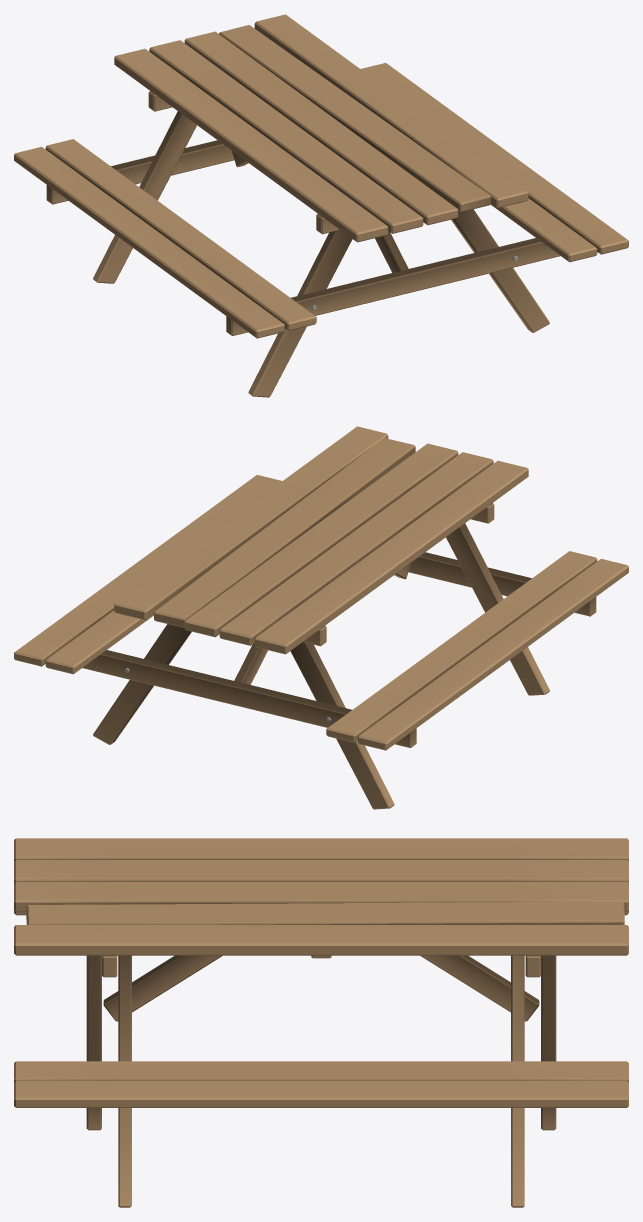
File: table.glb
3 renders of one model, top to bottom at view 1: azimuth 30°, elevation 25°; view 2: azimuth 150°, elevation 25°; view 3: azimuth 270°, elevation 25°, orthographic. The views are drawn at different scales.
Visible parts, largest first — view 1: PART; view 2: PART; view 3: PART.
Part boxes in pixels (x1,y1,x2,y2): PART: (14,14,628,397); PART: (14,426,628,809); PART: (14,838,628,1207).
Size of the model in its own units: 1.6 by 0.7486 by 1.8.
